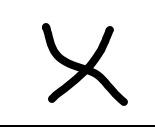mult: (40, 24, 128, 107)
